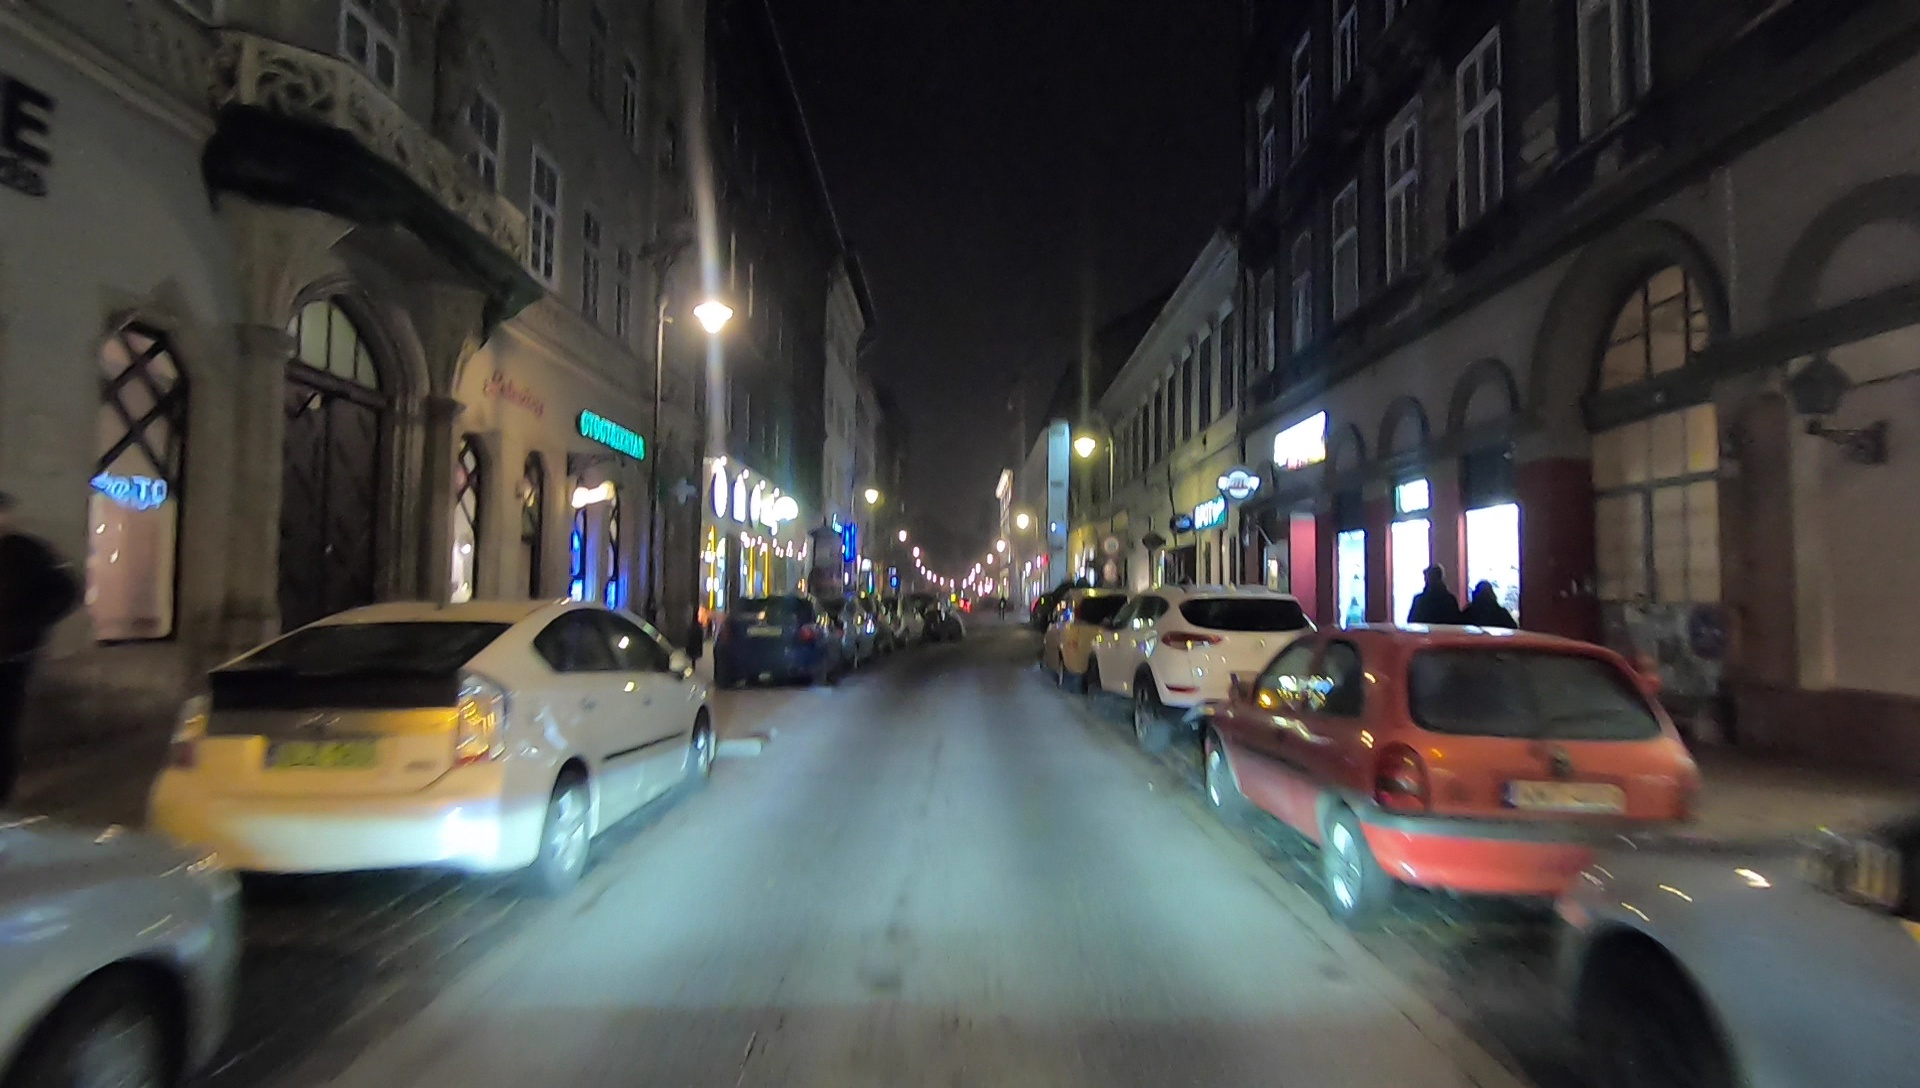person: (2, 495, 93, 780), (1465, 580, 1519, 684), (1412, 567, 1456, 678)
